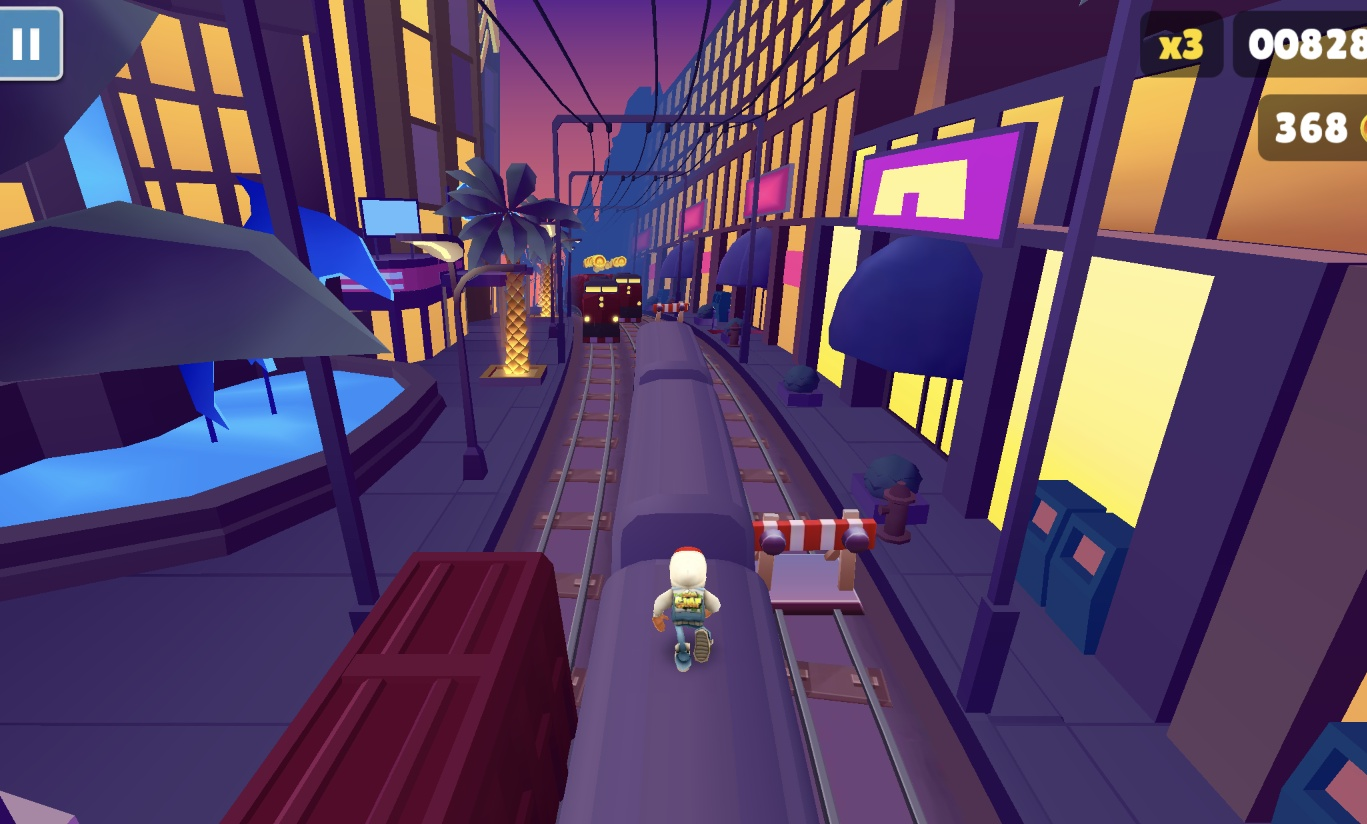ground_barrier: (752, 512, 876, 614), (653, 301, 688, 325)
train: (555, 321, 811, 824), (220, 551, 579, 824), (577, 274, 622, 344), (614, 274, 643, 320)
